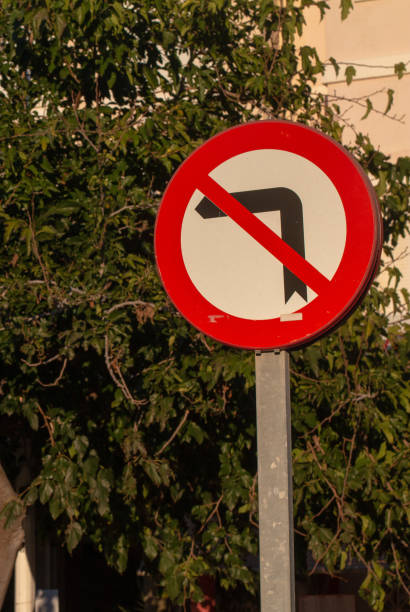sola_girilmez: (154, 119, 381, 348)
